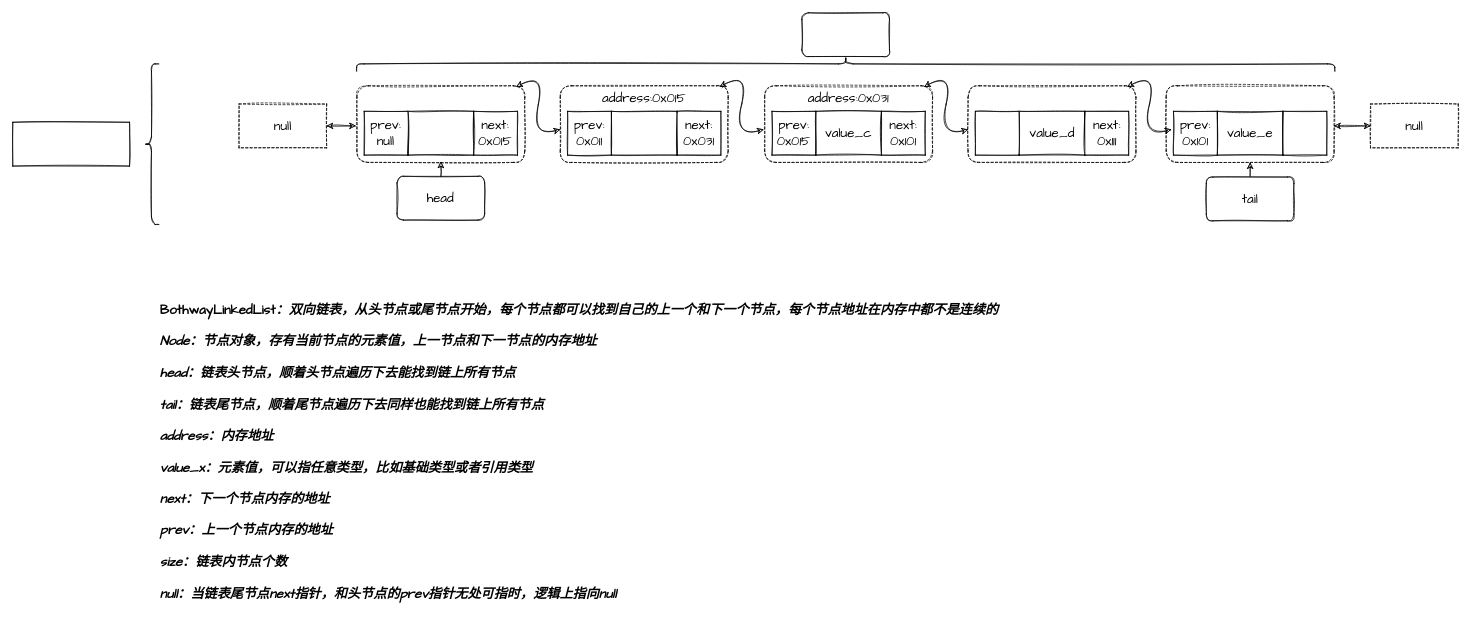
Image size: 1471x624. Some labels were removed from this diagram. Here are the shapes that lost their labels. From the top down, the box of each, then its label:
(801, 12, 890, 57): size:5
(356, 85, 525, 162): address:0x011
(407, 111, 474, 155): value_a
(611, 111, 677, 155): value_b
(975, 111, 1019, 155): prev: 0x031
(967, 85, 1136, 162): address:0x101
(1165, 85, 1334, 162): address:0x111
(1282, 111, 1327, 155): next: null
(12, 122, 130, 166): BothwayLinkedList
